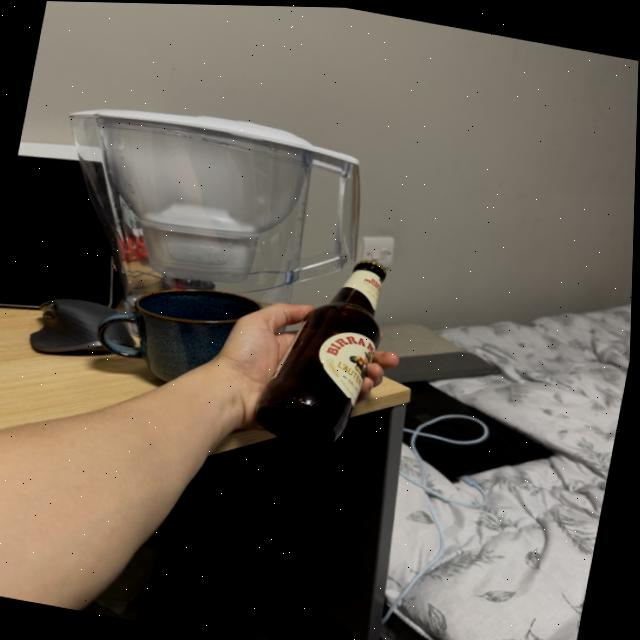beer: (256, 238, 399, 458)
